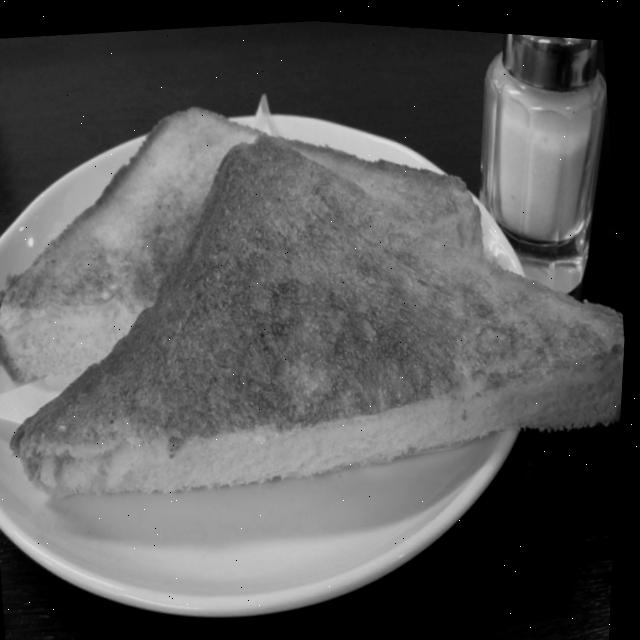面包点心: (0, 33, 639, 556)
